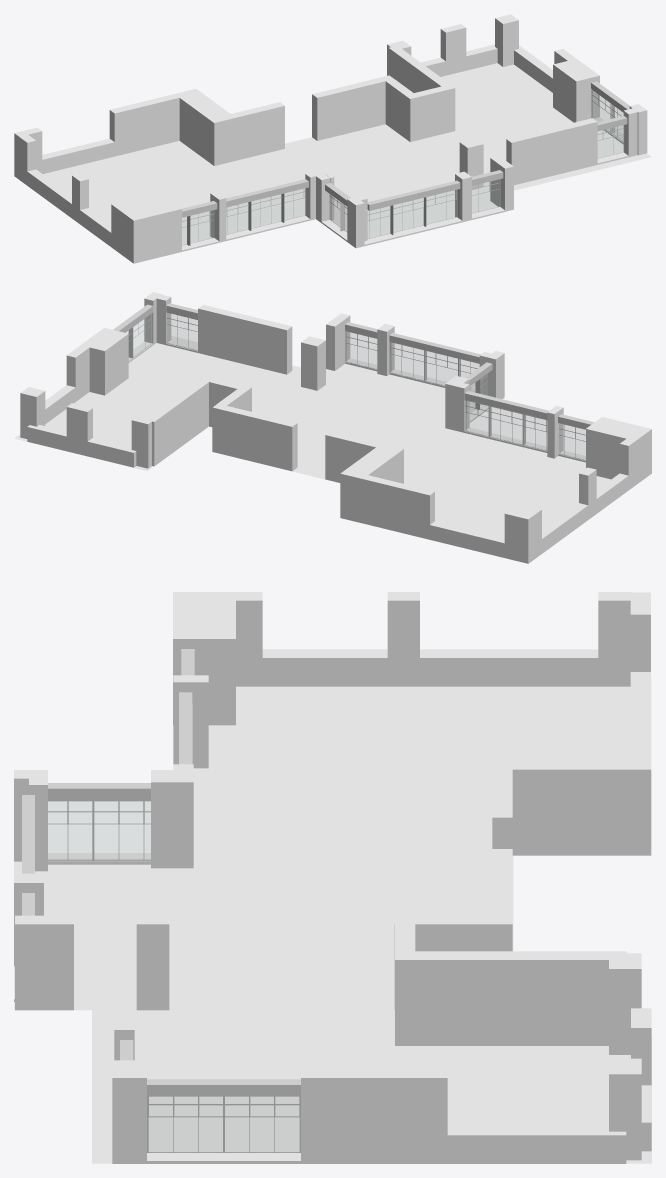
Rendered from 6F Floorplan (no ceiling).glb.
3 renders of one model, top to bottom at view 1: azimuth 30°, elevation 25°; view 2: azimuth 150°, elevation 25°; view 3: azimuth 270°, elevation 25°, orthographic. The views are drawn at different scales.
Parts seen in each view (by area): view 1: Walls, Floor, Window.001, Window.002, Window.007, Wall Extension.001, Window, Wall Extension.005, Window.009, Window.011, Window.003, Window.008 (+4 smaller); view 2: Walls, Floor, Window.007, Window.001, Window, Window.002, Window.011, Wall Extension.001, Window.006, Window.009, Wall Extension.005, Window.008 (+2 smaller); view 3: Floor, Walls, Window.012, Window.013, Window.005, Window.004, Wall Extension.004, Wall Extension, Wall Extension.001, Wall Extension.005.
Part boxes in pixels (<box>): Walls: <box>14,14,647,263</box>; Floor: <box>14,63,651,247</box>; Window.001: <box>423,189,459,226</box>; Window.002: <box>390,197,426,234</box>; Window.007: <box>248,193,284,230</box>; Wall Extension.001: <box>367,180,460,210</box>; Window: <box>472,179,500,213</box>; Wall Extension.005: <box>226,179,308,207</box>; Window.009: <box>187,210,214,245</box>; Window.011: <box>597,125,624,158</box>; Window.003: <box>364,205,393,238</box>; Window.008: <box>226,202,251,234</box>; Walls: <box>20,292,651,563</box>; Floor: <box>14,336,610,560</box>; Window.007: <box>488,405,525,445</box>; Window.001: <box>389,341,426,381</box>; Window: <box>345,331,377,369</box>; Window.002: <box>424,350,460,386</box>; Window.011: <box>166,312,197,350</box>; Wall Extension.001: <box>389,333,480,363</box>; Window.006: <box>465,399,491,436</box>; Window.009: <box>559,423,585,460</box>; Wall Extension.005: <box>464,391,548,419</box>; Window.008: <box>522,414,547,451</box>; Floor: <box>14,678,651,1163</box>; Walls: <box>14,592,651,1163</box>; Window.012: <box>147,1096,224,1152</box>; Window.013: <box>223,1096,300,1152</box>; Window.005: <box>92,800,150,861</box>; Window.004: <box>48,800,94,861</box>; Wall Extension.004: <box>147,1079,300,1096</box>; Wall Extension: <box>48,783,150,800</box>; Wall Extension.001: <box>22,795,34,873</box>; Wall Extension.005: <box>179,692,192,764</box>.
Bounding box in the file's own units: 36.34 × 3 × 20.17.
